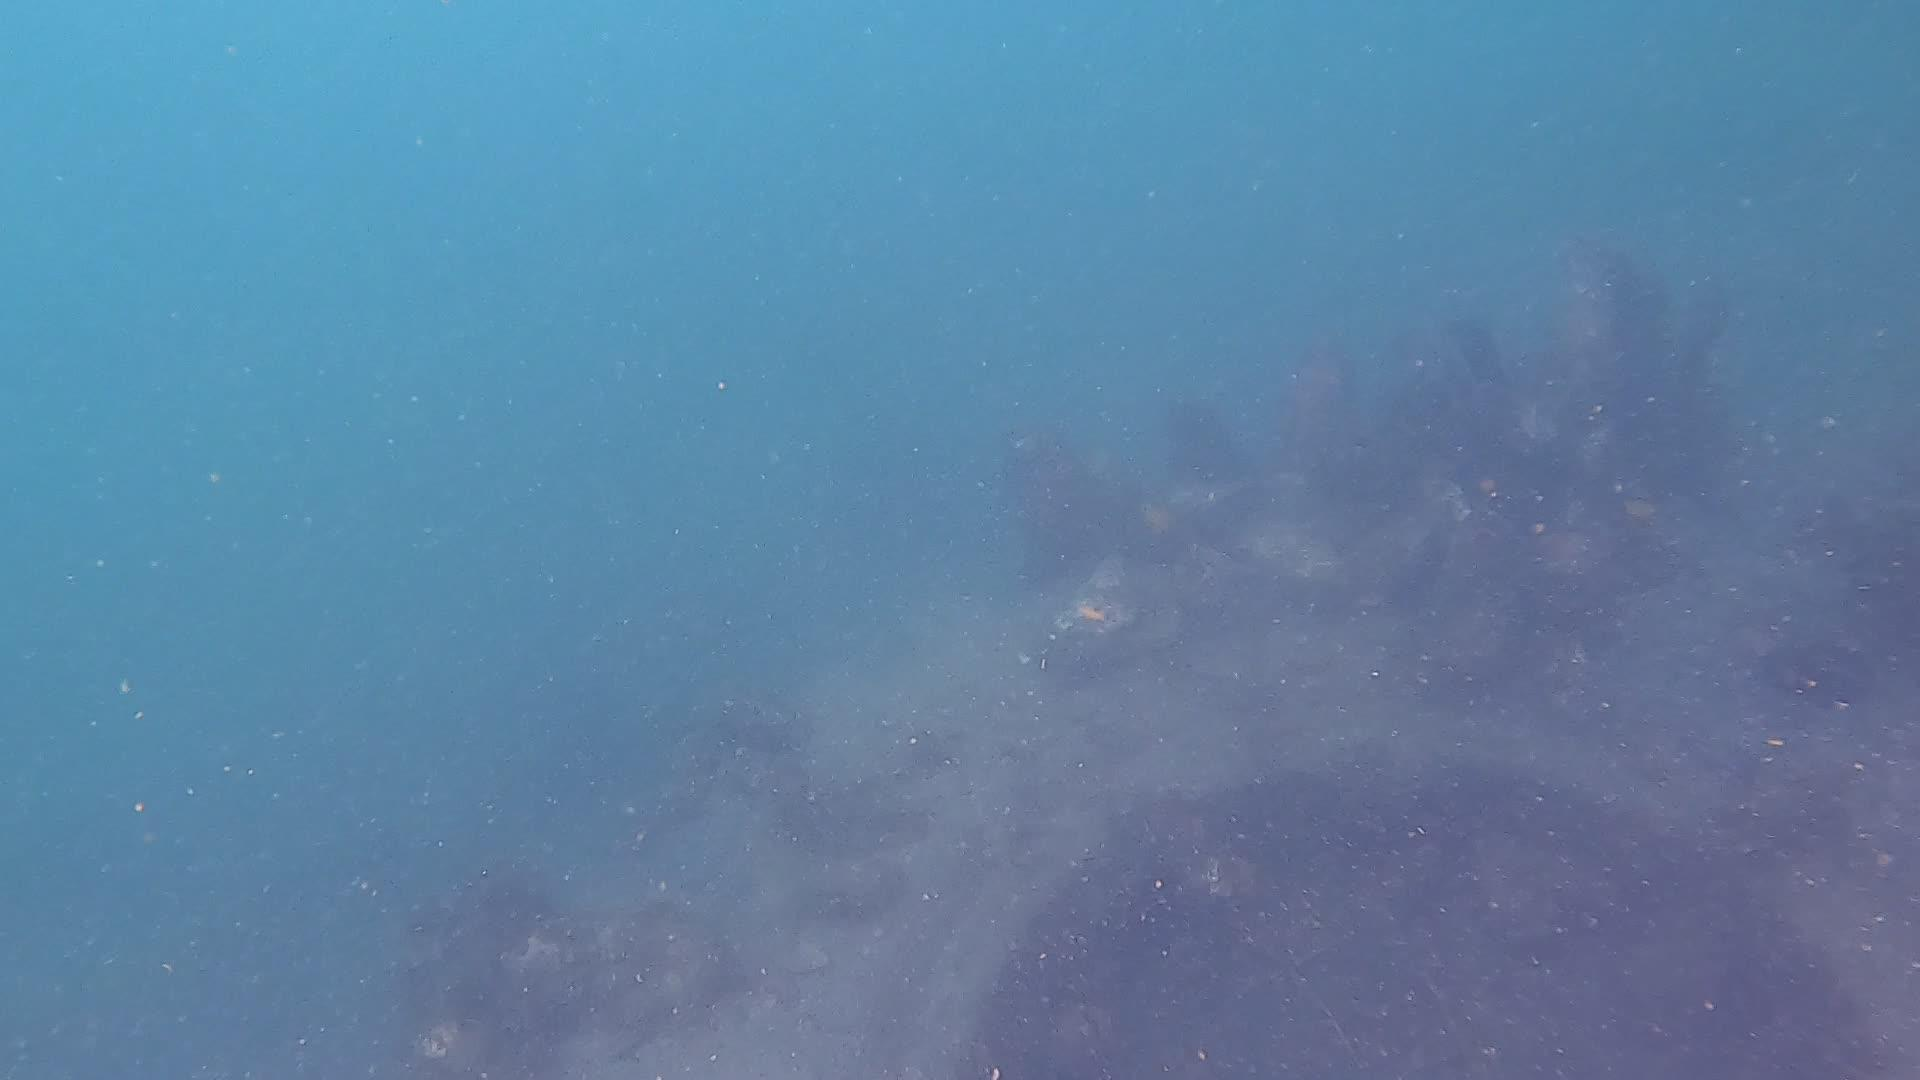tire: (506, 574, 1920, 1080)
